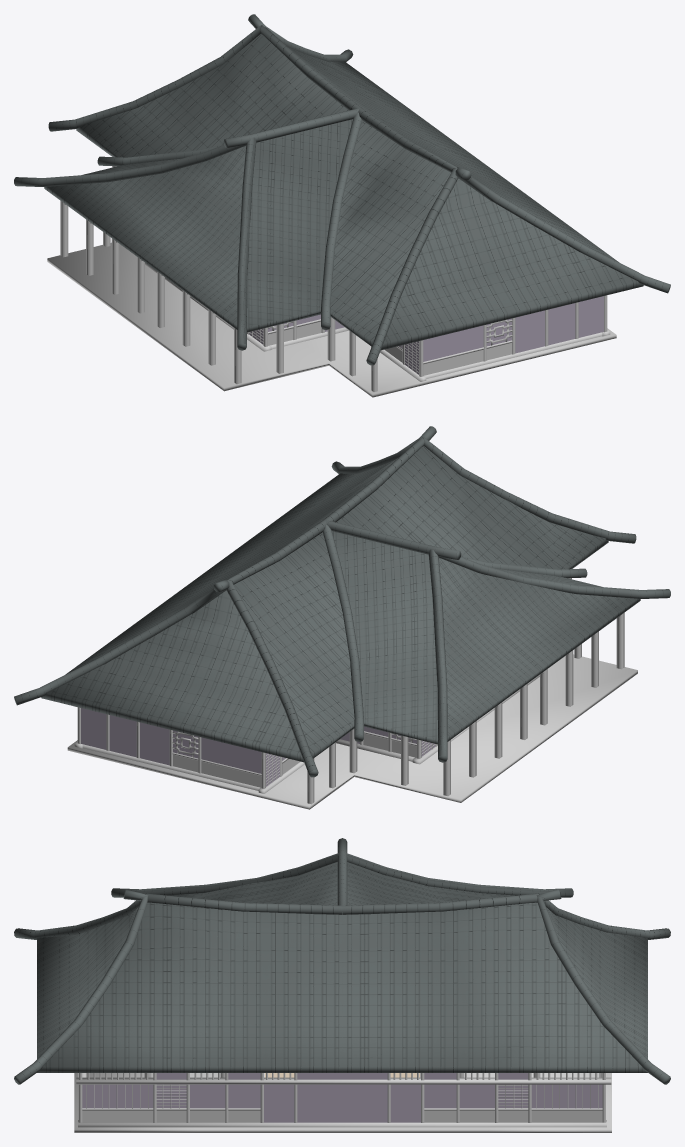
File: Dojo_1.fbx
3 renders of one model, top to bottom at view 1: azimuth 30°, elevation 25°; view 2: azimuth 150°, elevation 25°; view 3: azimuth 270°, elevation 25°, orthographic.
Parts seen in each view (by area): view 1: Plane.017; view 2: Plane.017; view 3: Plane.017.
Boxes of the visible parts, left/top/right/bottom form: Plane.017: left=14, top=14, right=670, bottom=397; Plane.017: left=14, top=426, right=670, bottom=809; Plane.017: left=14, top=838, right=670, bottom=1132.
Bounding box in the file's own units: 29.99 × 13.28 × 43.6.
